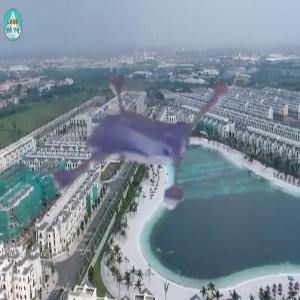drone: (14, 54, 233, 273)
